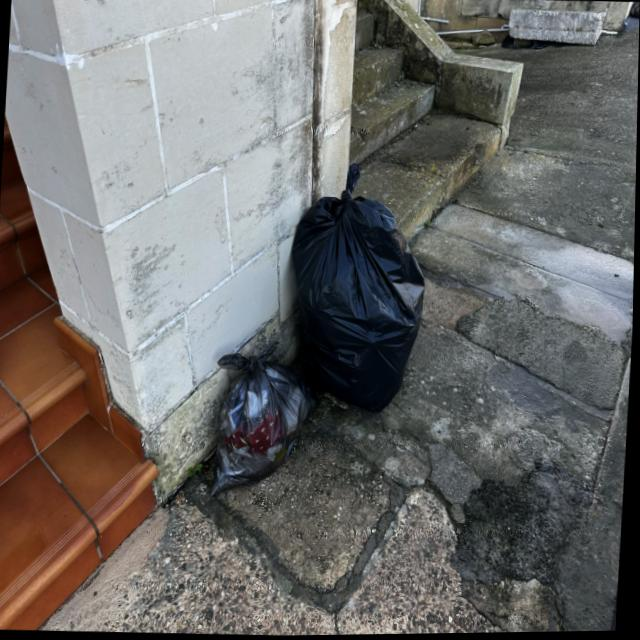Mixed Waste -Black Bags-: (293, 164, 425, 414), (212, 340, 320, 498)
